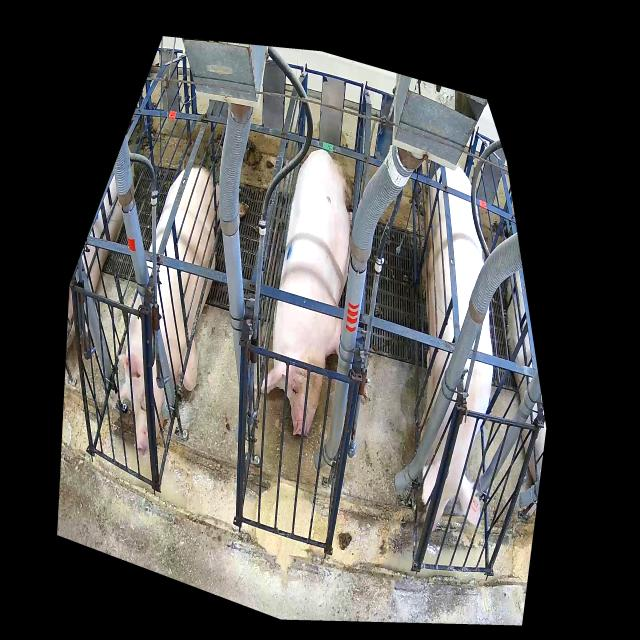pig: (116, 164, 248, 454), (261, 148, 367, 437), (419, 165, 493, 532)
